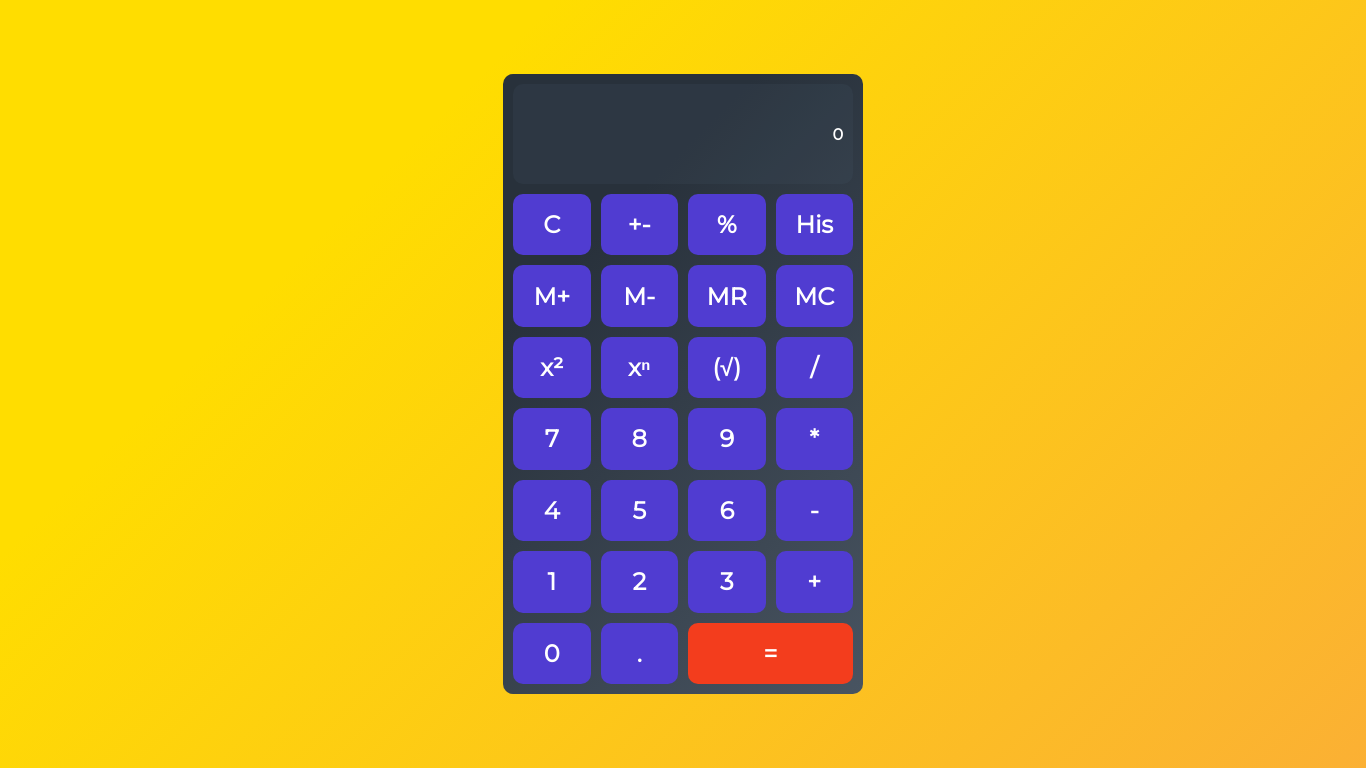
Calculator › should be able to do percentages
Click the button "5".
click(639, 510)  # box [600, 480, 678, 541]
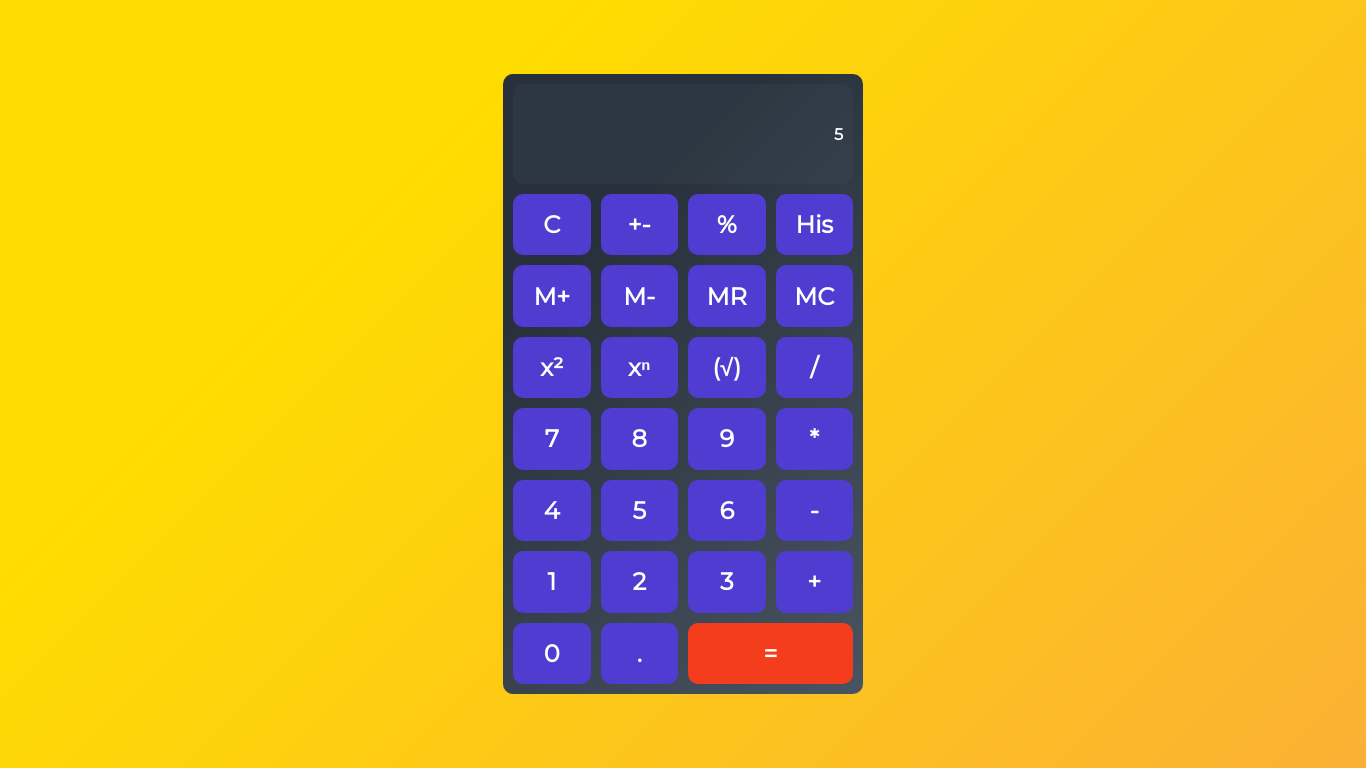
Click the button "%".
click(727, 225)  # box [688, 194, 766, 255]
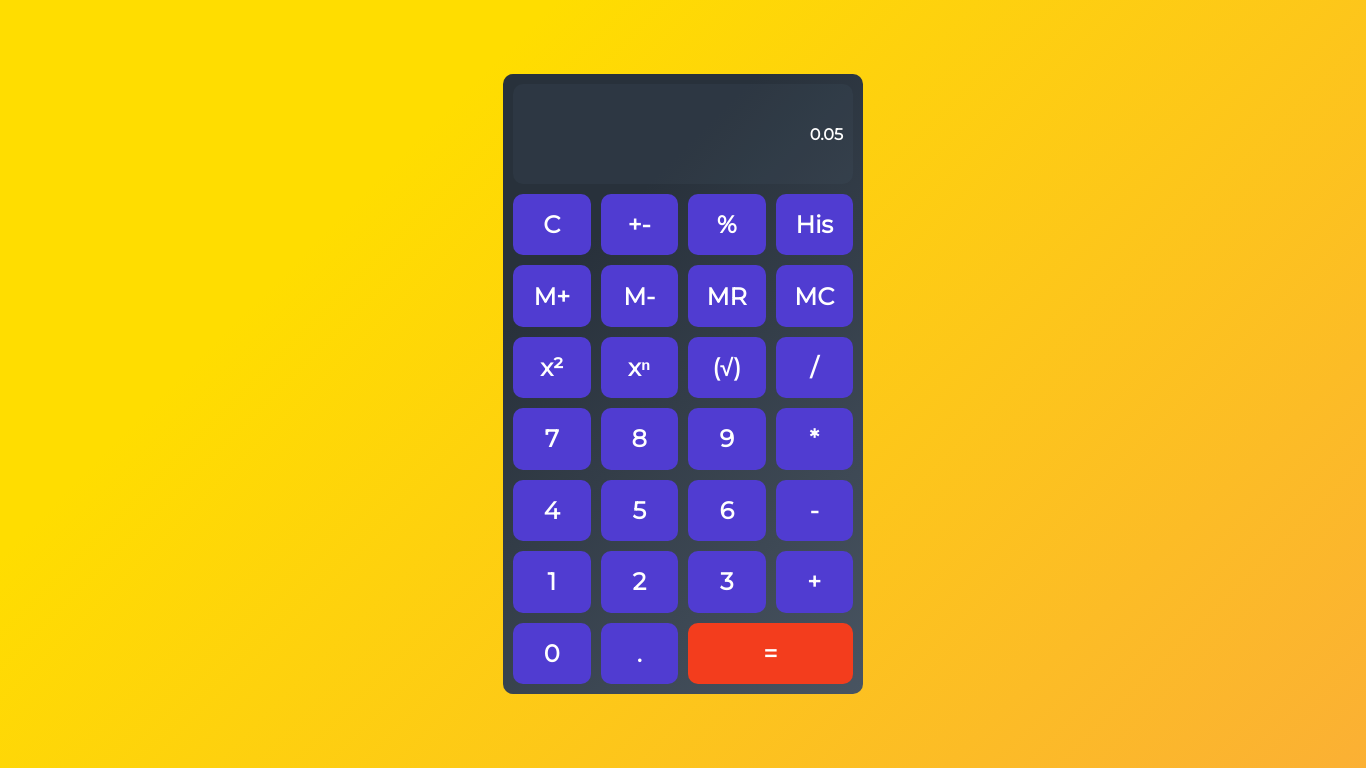
Now the text with test id "screen" reads "0.05", box [810, 124, 843, 144]
